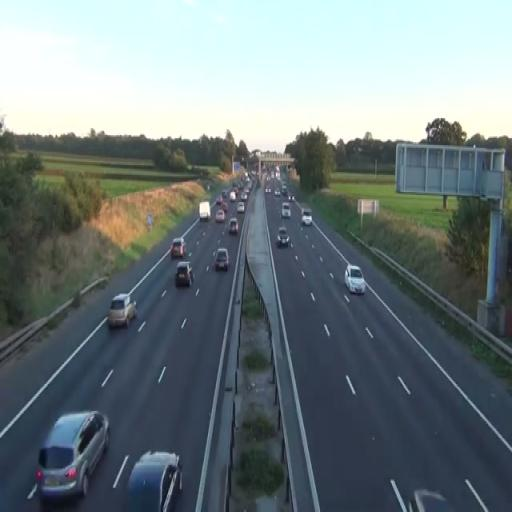Car: (34, 410, 111, 502), (126, 449, 183, 512), (107, 293, 137, 329), (344, 264, 366, 295), (174, 261, 193, 288), (171, 236, 187, 260), (215, 248, 230, 272), (276, 226, 290, 248), (281, 202, 291, 219), (229, 218, 238, 236)
Truck: (199, 200, 211, 222)
